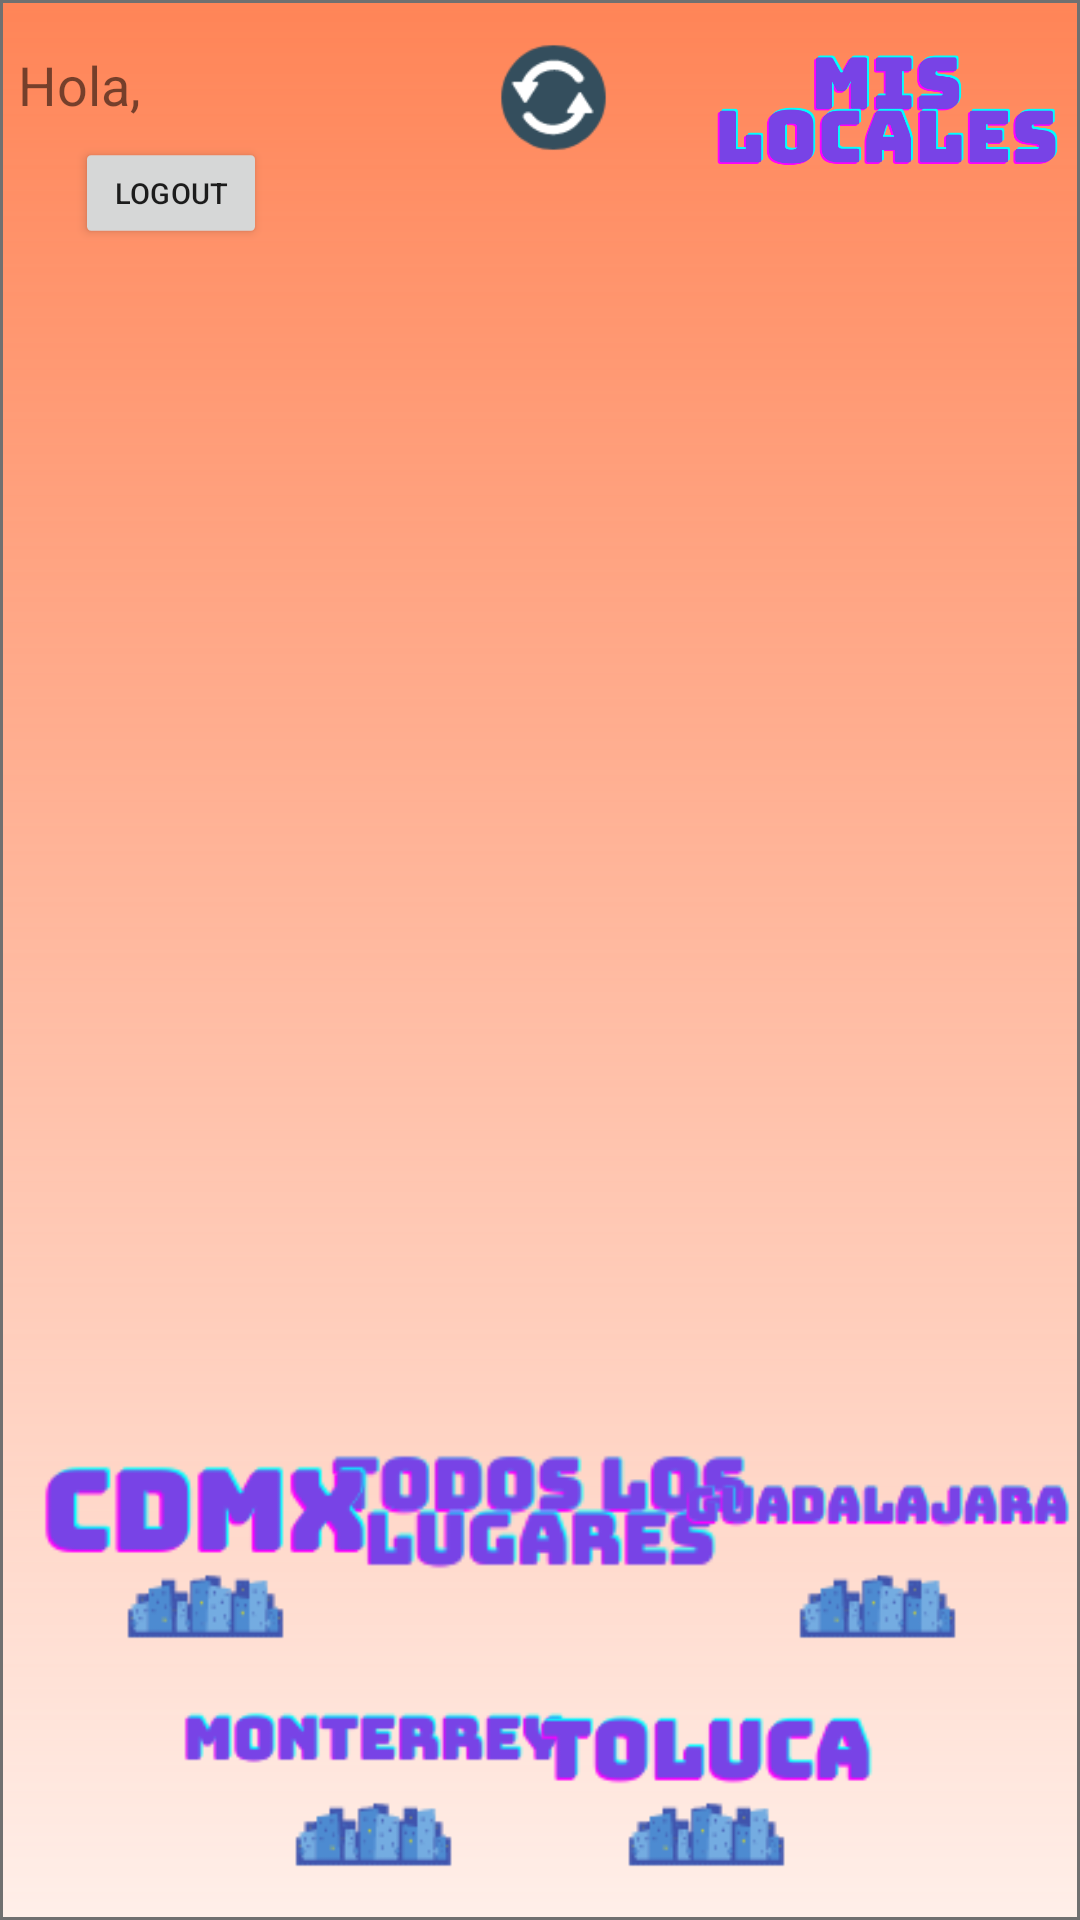

Icon bounding boxes for this 1080px×1920px phone screenshot, format (x1, y1, x2, y2):
recarga: (501, 45, 606, 150)
